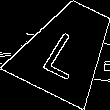L_NE: (38, 20, 95, 79)
